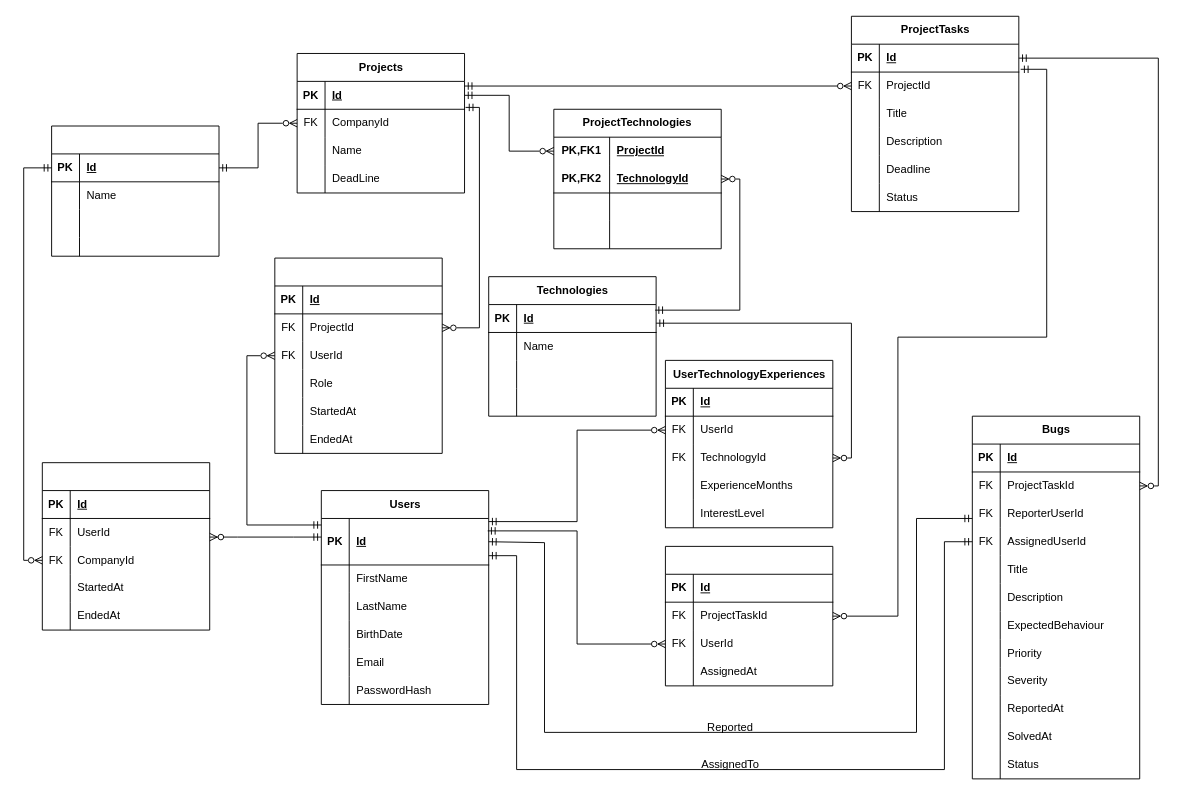
The diagram is 1183 pixels wide and 795 high, and some of its shapes have lost their labels. Each missing label, with the box of its shape:
Companies: (51, 125, 219, 256)
CompanyMemberships: (41, 462, 210, 630)
ProjectMemberships: (274, 257, 442, 453)
TaskAssignments: (664, 545, 833, 686)
